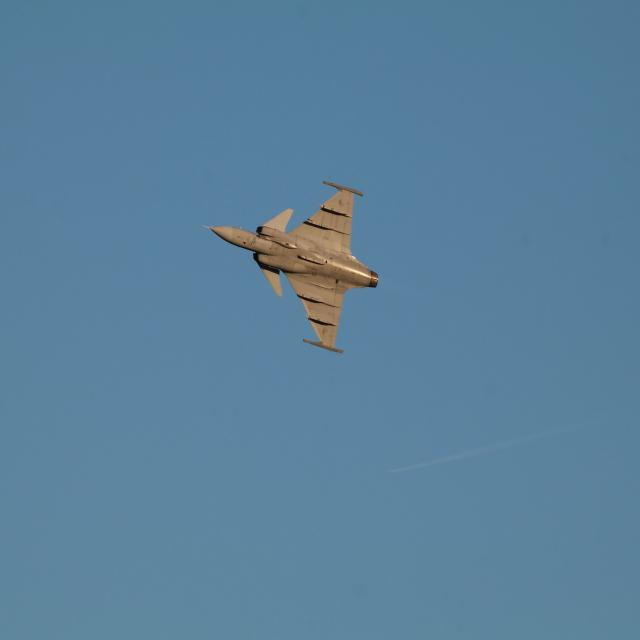MIL_Plane: (200, 180, 378, 354)
